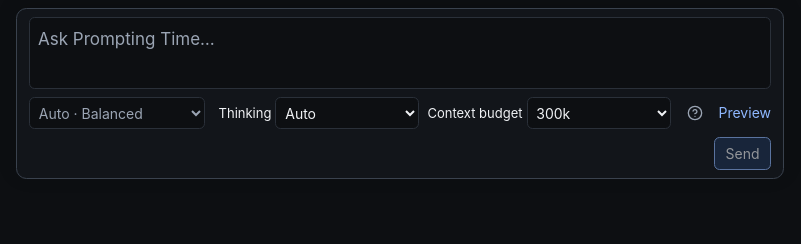
Test: Composer › blocks send during context save, preserves the draft and visibly rolls back a failed save
The image size is (801, 244).
Type "keep draft" into the text box named "Message". click: (400, 53)
box: [29,17,771,89]
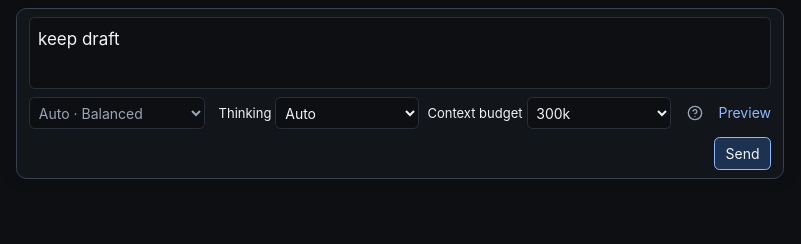
Select "500k" in the dropdown labelled "Context budget". click: (598, 113)
box: [526,97,670,129]
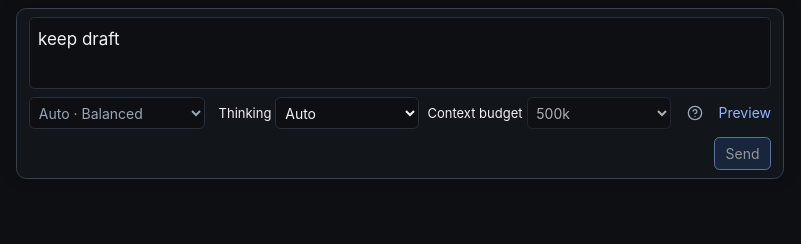
Expected: the dropdown labelled "Context budget" is disabled, [526,97,670,129]
Expected: the button "Send" is disabled, [714,137,771,170]
Press Enter in the text box named "Message", box [29,17,771,89]
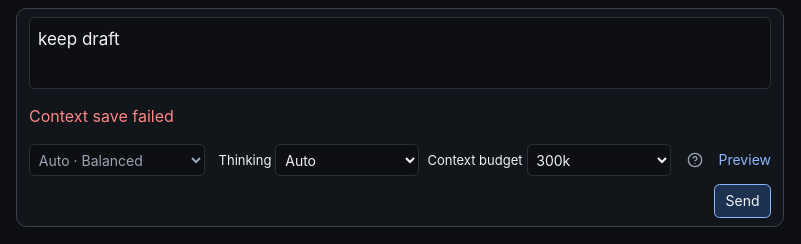
Expected: the message reads "Context save failed", [29,106,174,126]
